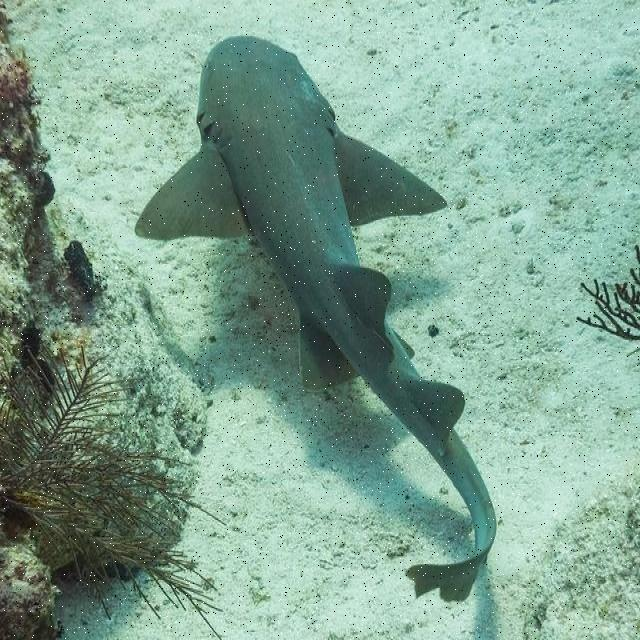aquatic plants: (0, 349, 225, 638)
fish: (134, 36, 497, 604)
reefs: (576, 243, 639, 341)
